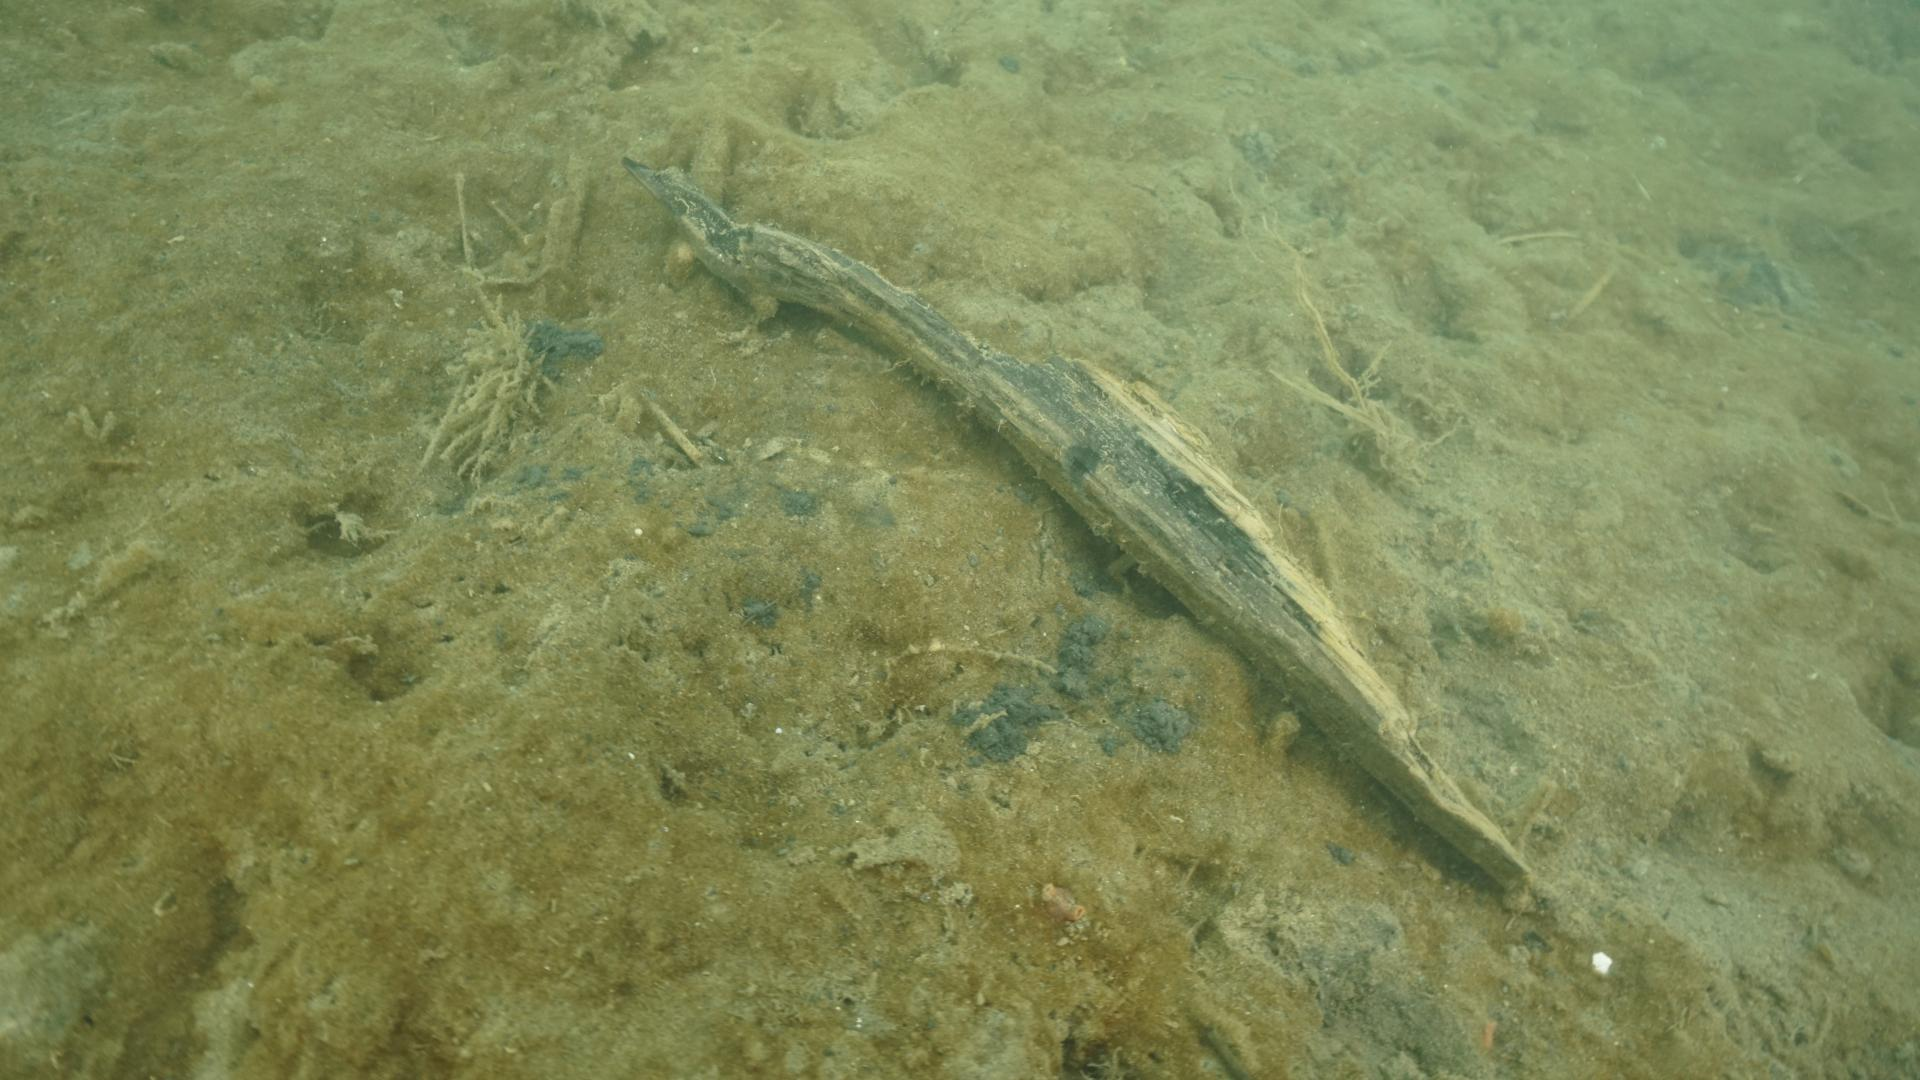wood: (620, 154, 1556, 913)
